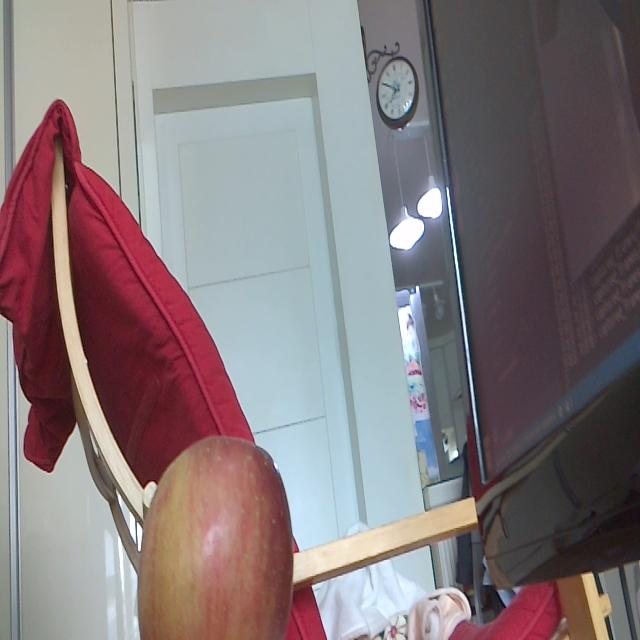apple: (139, 438, 293, 640)
